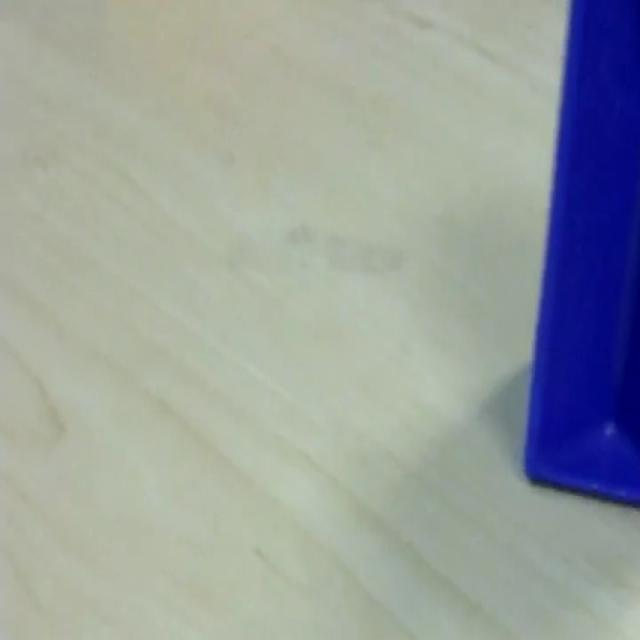blue_block: (522, 0, 638, 505)
